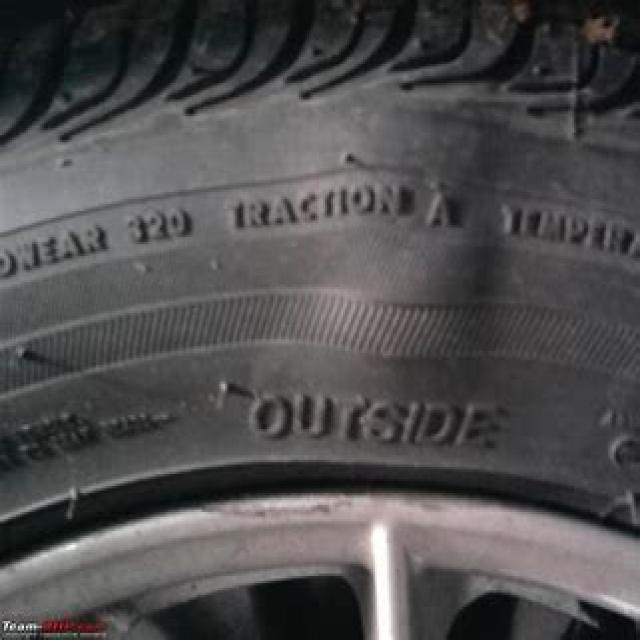Bulge: (296, 199, 495, 430)
